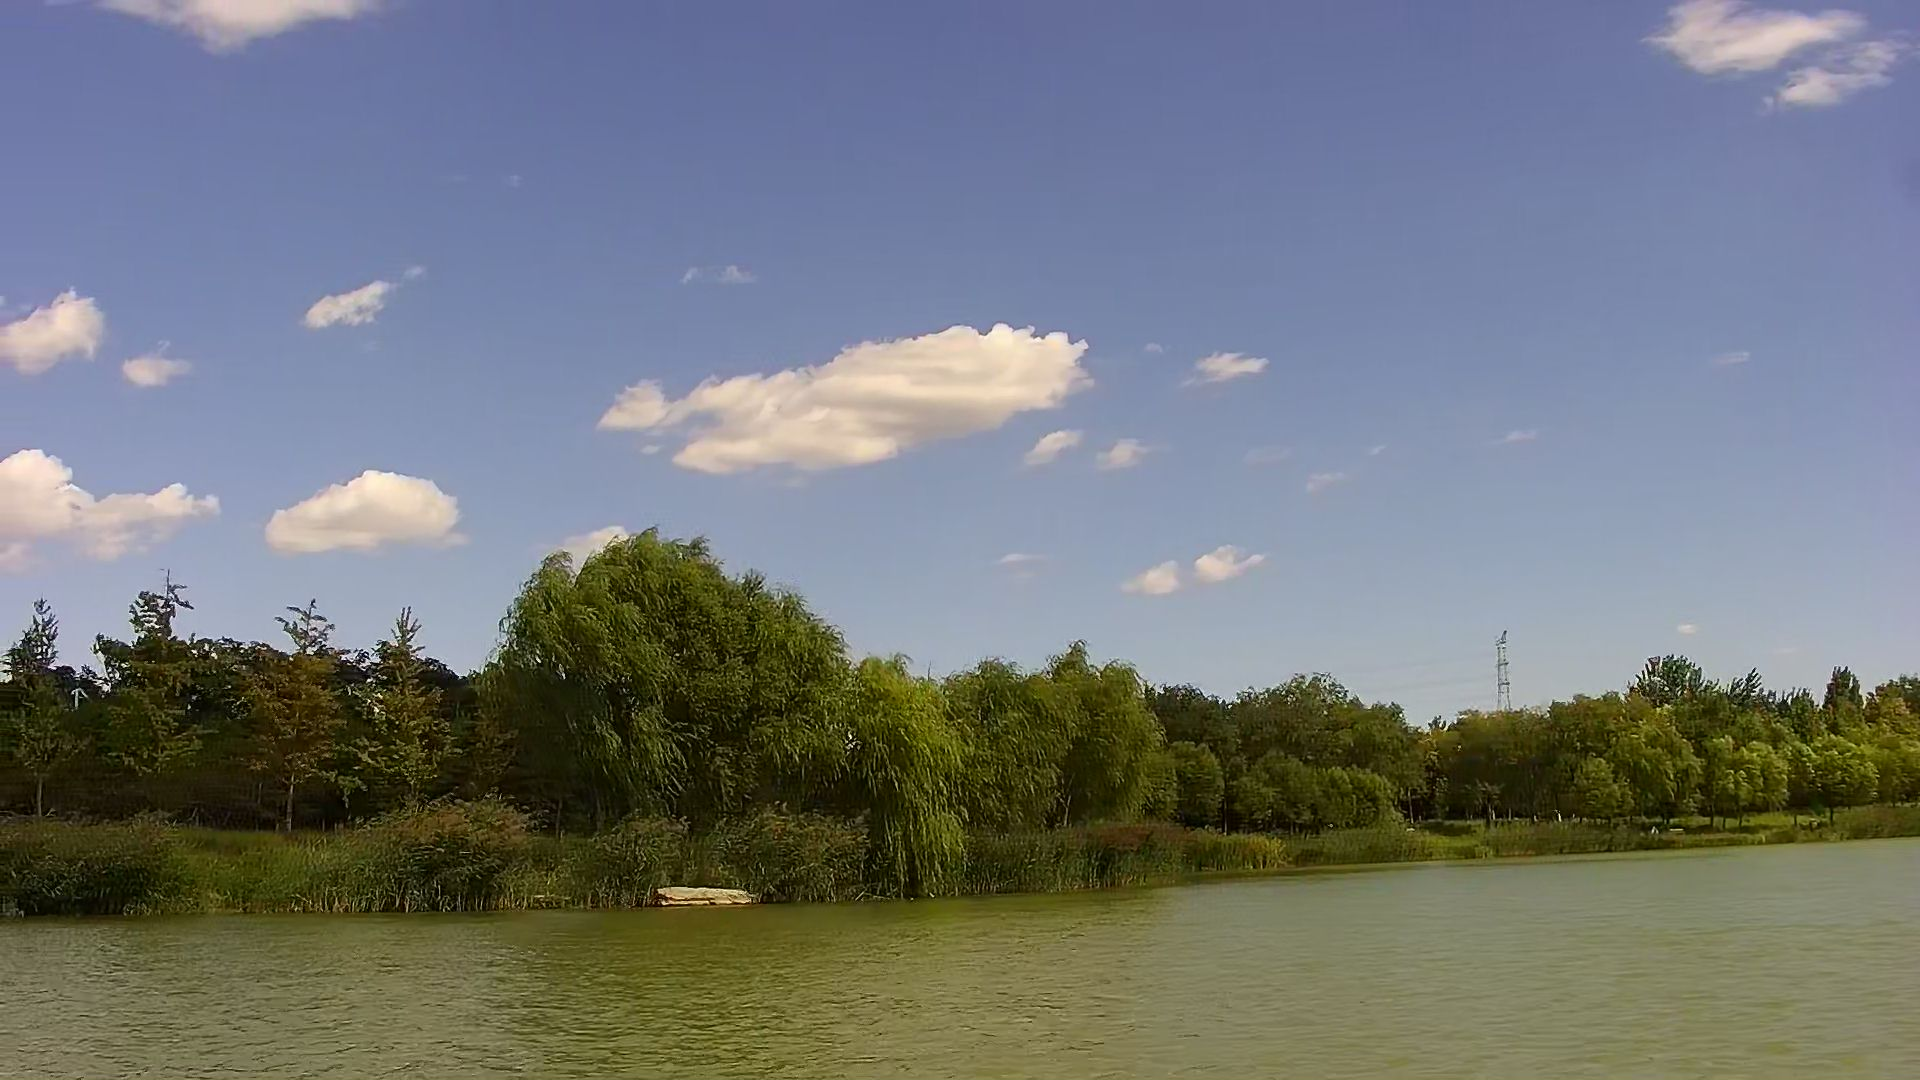rock: (659, 880, 749, 905)
